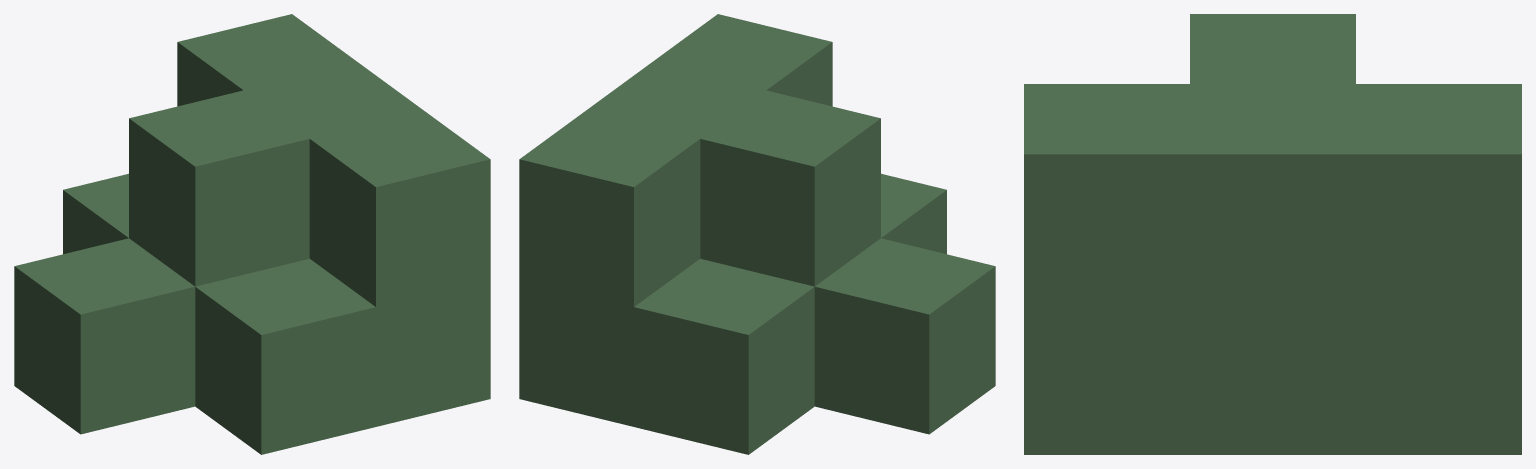
The model's file is Snake00-Head.gltf.
3 renders of one model, left to right at view 1: azimuth 30°, elevation 25°; view 2: azimuth 150°, elevation 25°; view 3: azimuth 270°, elevation 25°, orthographic. The views are drawn at different scales.
Size of the model in its own units: 3 by 2 by 3.
